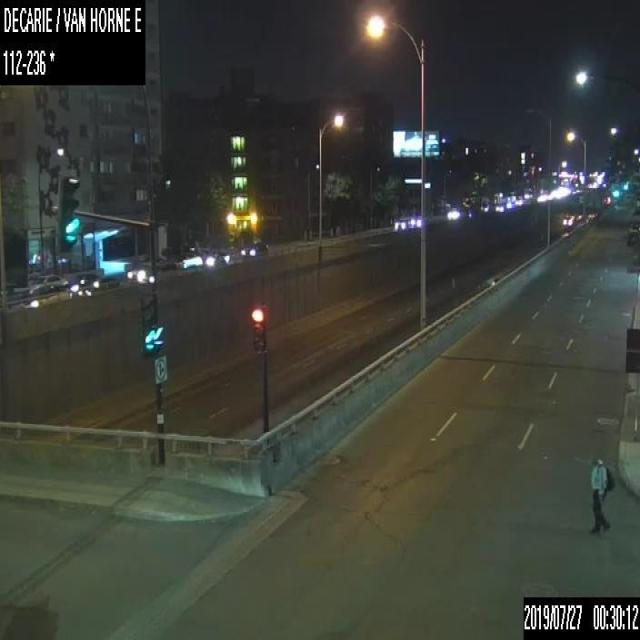pedestrian: (588, 451, 615, 533)
vehicle: (26, 272, 66, 292), (68, 270, 102, 292), (124, 262, 151, 282), (240, 239, 267, 256), (175, 252, 201, 267), (154, 253, 171, 275), (205, 252, 228, 266), (393, 216, 411, 231), (448, 205, 462, 219), (411, 213, 421, 226), (562, 214, 572, 224)
